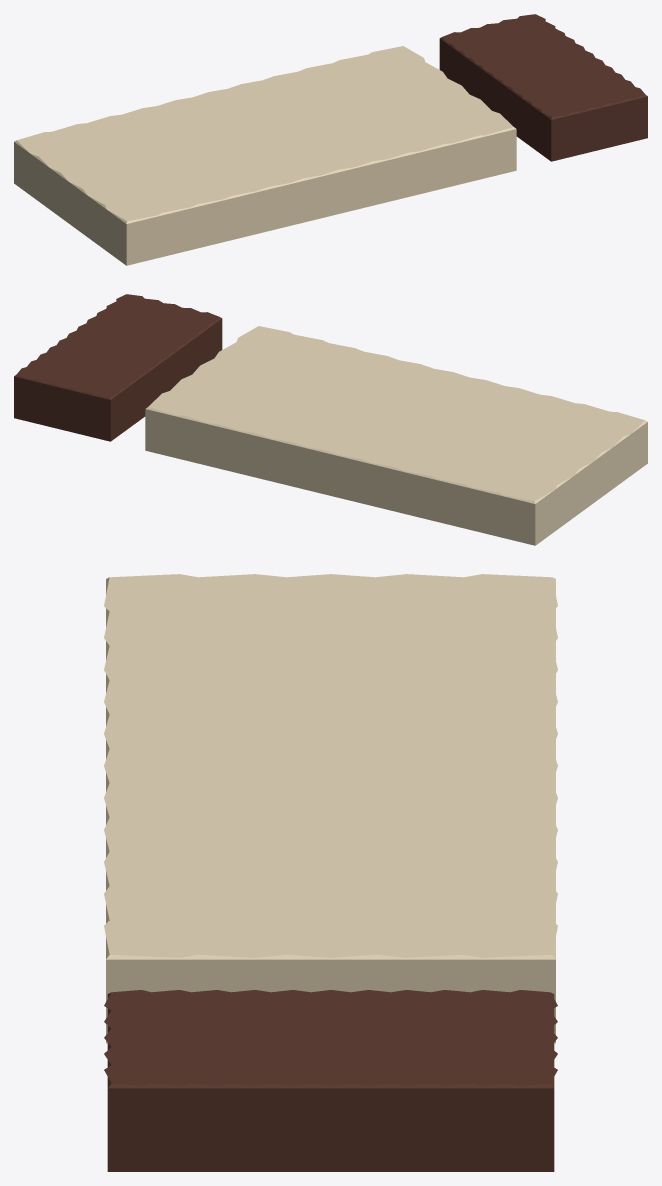
The model's file is mahsulot.glb.
3 views of the same model, one above another, from view 1: azimuth 30°, elevation 25°; view 2: azimuth 150°, elevation 25°; view 3: azimuth 270°, elevation 25° (orthographic). The views are drawn at different scales.
Visible parts, largest first — view 1: mahsulot_A, mahsulot_B; view 2: mahsulot_A, mahsulot_B; view 3: mahsulot_A, mahsulot_B.
Boxes of the visible parts, x1=… form: mahsulot_A: x1=14, y1=46, x2=516, y2=265; mahsulot_B: x1=439, y1=14, x2=647, y2=161; mahsulot_A: x1=145, y1=326, x2=647, y2=545; mahsulot_B: x1=14, y1=294, x2=222, y2=441; mahsulot_A: x1=104, y1=574, x2=557, y2=1043; mahsulot_B: x1=104, y1=990, x2=557, y2=1171.
Size of the model in its own units: 0.48 by 0.038 by 0.18.
